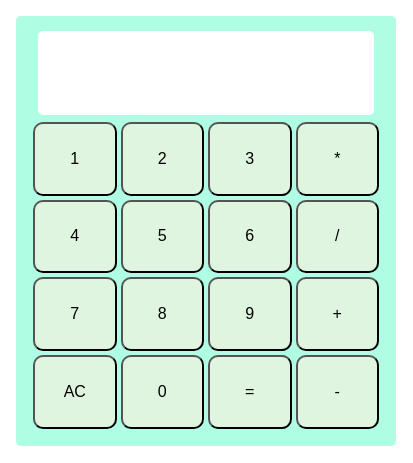
Scenario: Calculator › calculates the addition
This screenshot has width=413, height=463.
What coordinates should you click on to do the following:
click the button "5"
I would click on:
 (162, 236)
Its box is left=120, top=200, right=204, bottom=273.
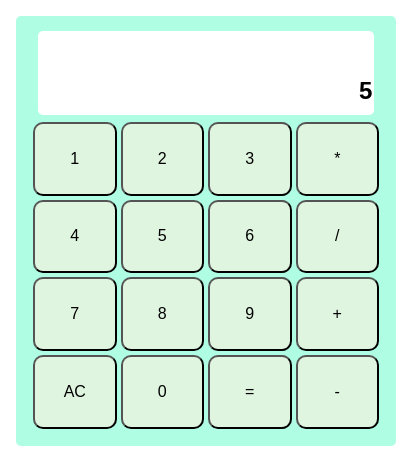
What coordinates should you click on to do the following:
click the button "+"
I would click on:
 (337, 314)
Its box is left=296, top=277, right=379, bottom=351.
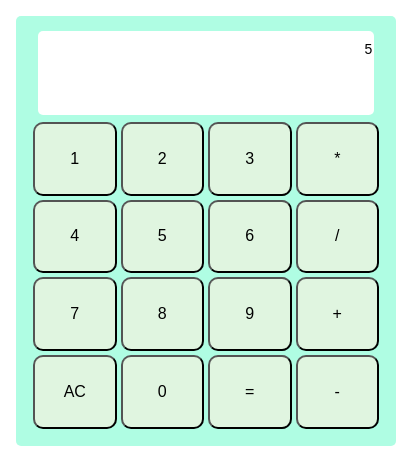
What coordinates should you click on to do the following:
click the button "7"
I would click on:
 (75, 314)
Its box is left=33, top=277, right=116, bottom=351.
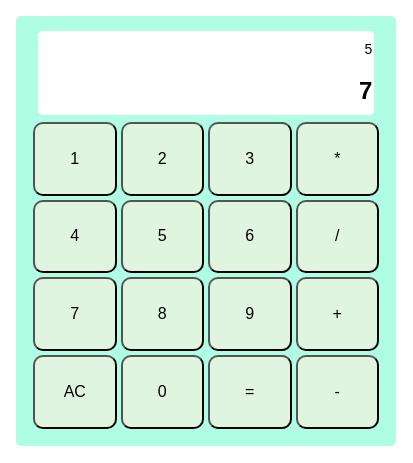
What coordinates should you click on to do the following:
click the button "="
I would click on:
 (250, 392)
Its box is left=208, top=355, right=292, bottom=429.
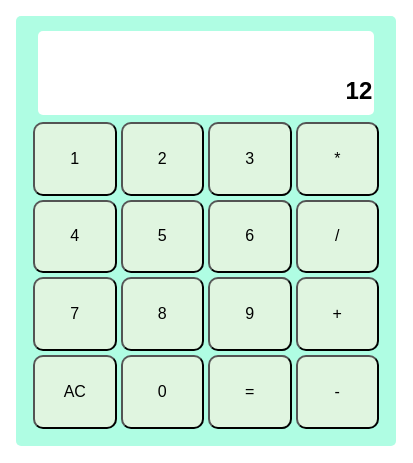
Now the field showing "12" is shown, box left=38, top=67, right=374, bottom=115
